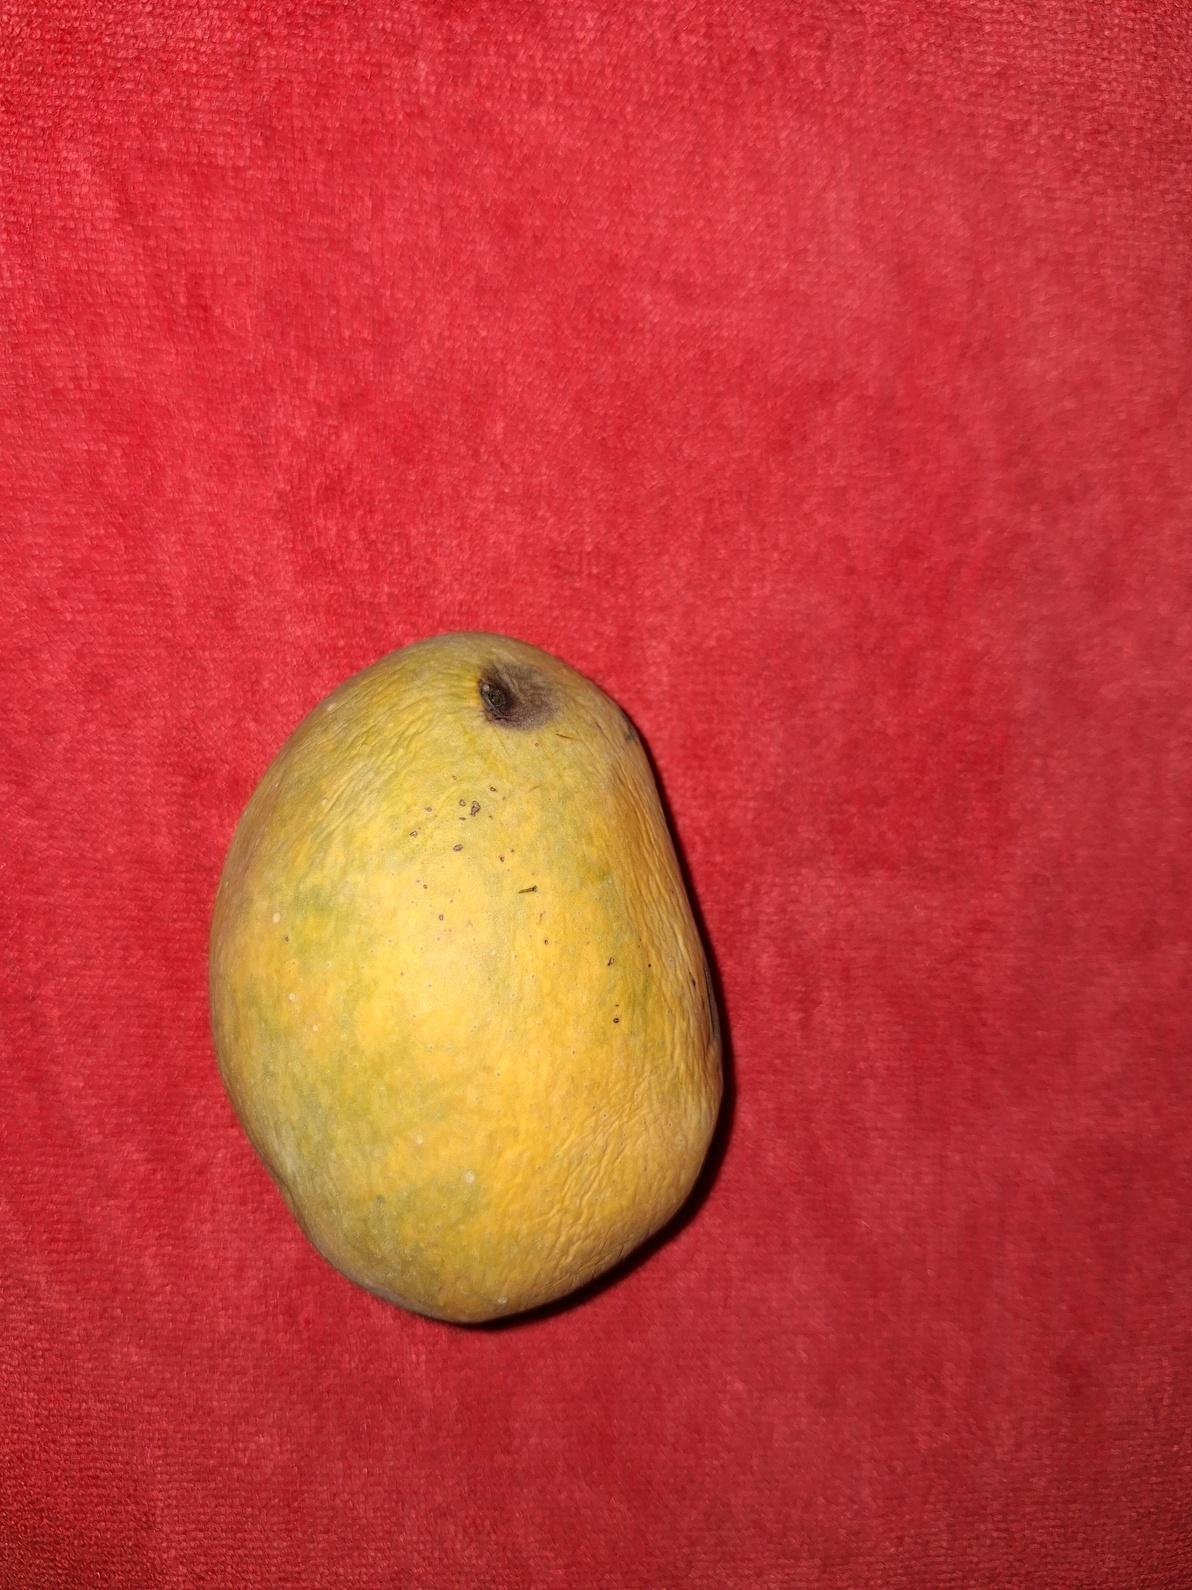mango: (207, 627, 725, 1326)
